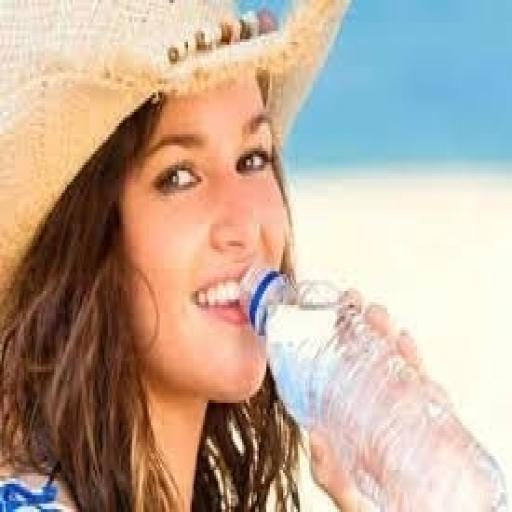drinking: (236, 260, 506, 509)
